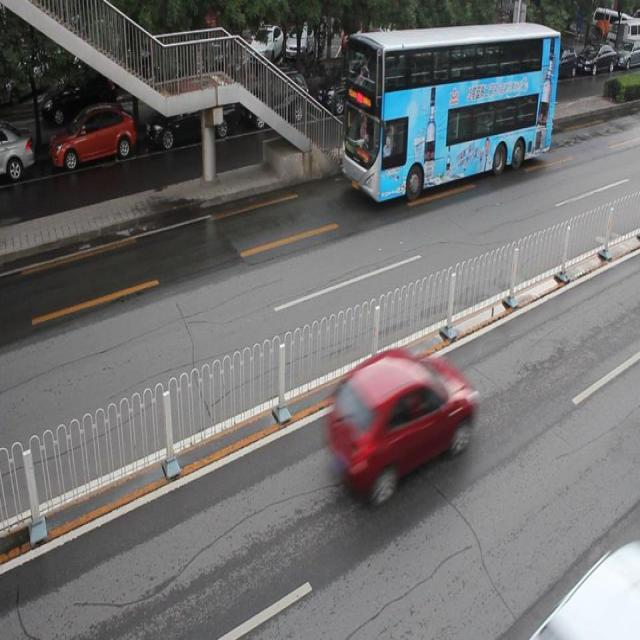car: (324, 348, 478, 504), (524, 534, 640, 640), (49, 105, 136, 172), (144, 92, 236, 150), (314, 62, 390, 122), (242, 72, 308, 130), (417, 73, 468, 131), (1, 127, 34, 181)
van: (340, 21, 559, 204)
